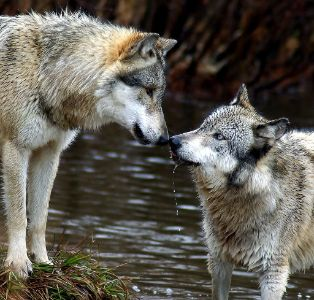wolf: (2, 8, 171, 280), (171, 85, 306, 296)
